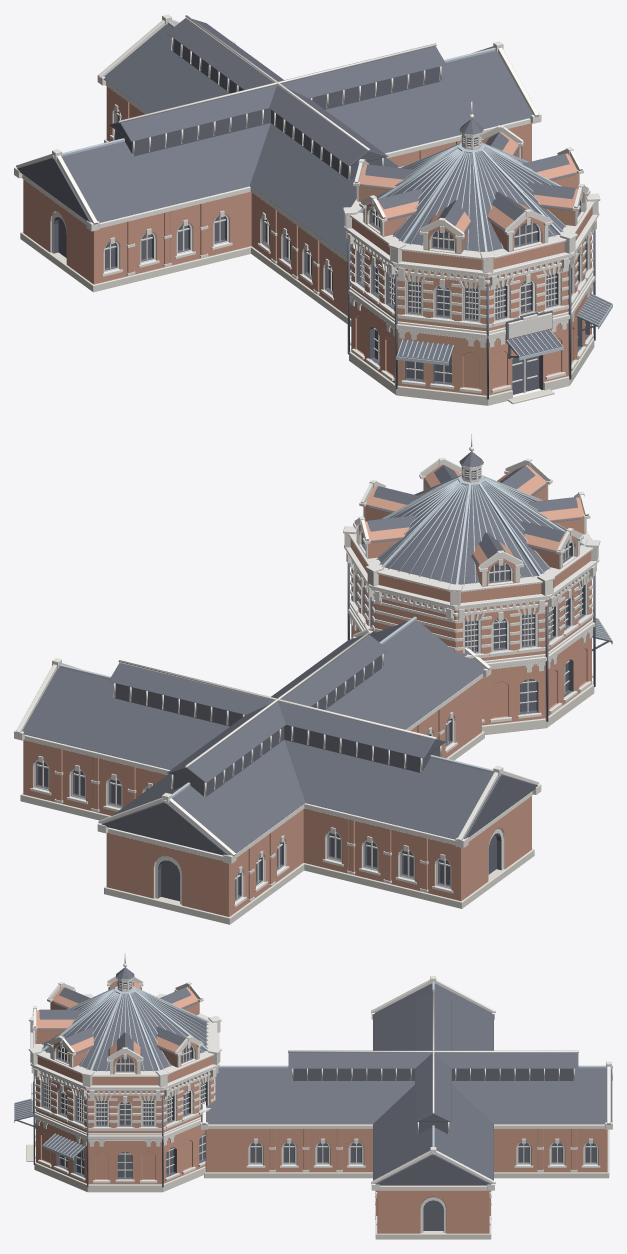
The model's file is red-house.glb.
The picture shows the model from 3 angles, top to bottom: view 1: azimuth 30°, elevation 25°; view 2: azimuth 150°, elevation 25°; view 3: azimuth 270°, elevation 25°; orthographic projection. The views are drawn at different scales.
Visible parts, largest first — view 1: main; view 2: main; view 3: main.
Boxes of the visible parts, left/top/right/bottom form: main: left=14, top=14, right=612, bottom=405; main: left=14, top=434, right=612, bottom=924; main: left=14, top=953, right=612, bottom=1239.
Size of the model in its own units: 30.8 by 16.5 by 44.7.
